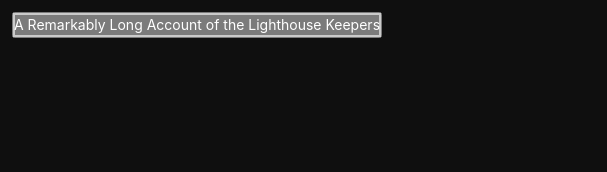
Test: keeps a focus tip while focus scrolls its control into view, and drops a hover tip on scroll
The image size is (607, 172).
Hover over the button "A Remarkably Long Account of the Lighthouse Keepers" at (197, 25), box x1=12 y1=12 x2=382 y2=38
Wait 500 ms
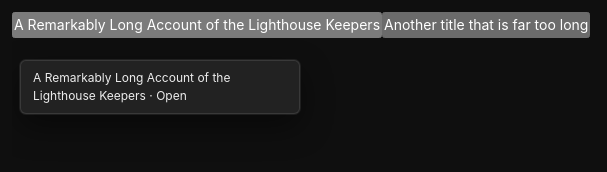
Expected: the text "A Remarkably Long Account of the Lighthouse Keepers · Open" is shown, x1=20 y1=60 x2=300 y2=114
Hover over the button "Another title that is far too long" at (486, 25), box x1=382 y1=12 x2=590 y2=38
Wait 500 ms
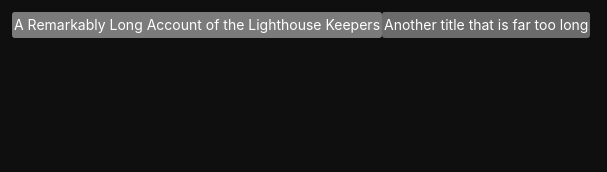
Expected: the text with class "tooltip-bubble" is gone
